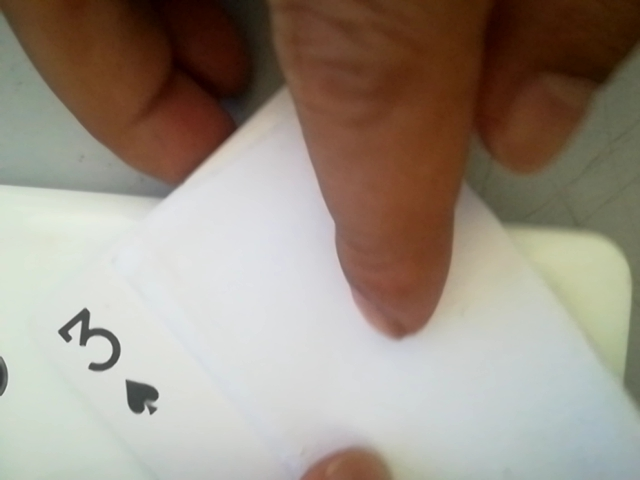ht 3: (42, 296, 178, 426)
